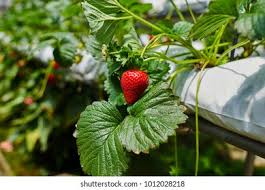ripe: (117, 66, 154, 108)
